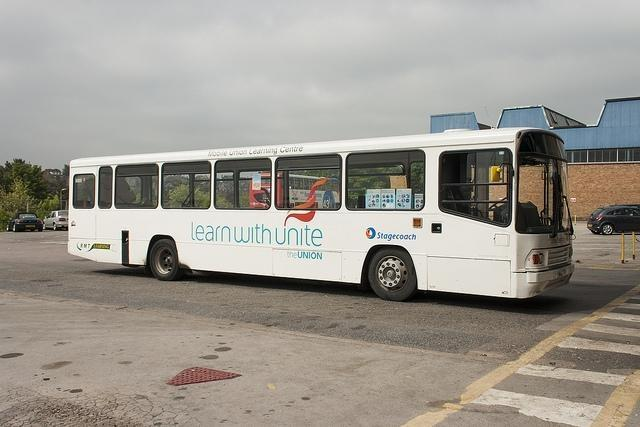bus: (67, 123, 579, 300)
car: (587, 204, 640, 236), (6, 212, 43, 232), (43, 210, 68, 231)
